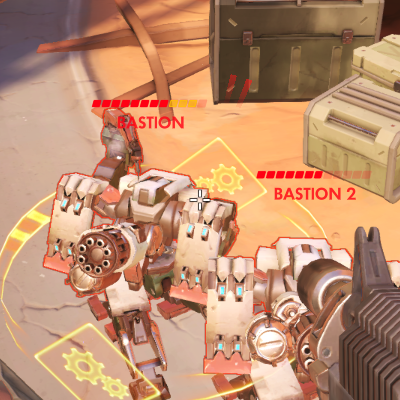hpbar: (91, 99, 208, 109), (256, 170, 372, 180)
